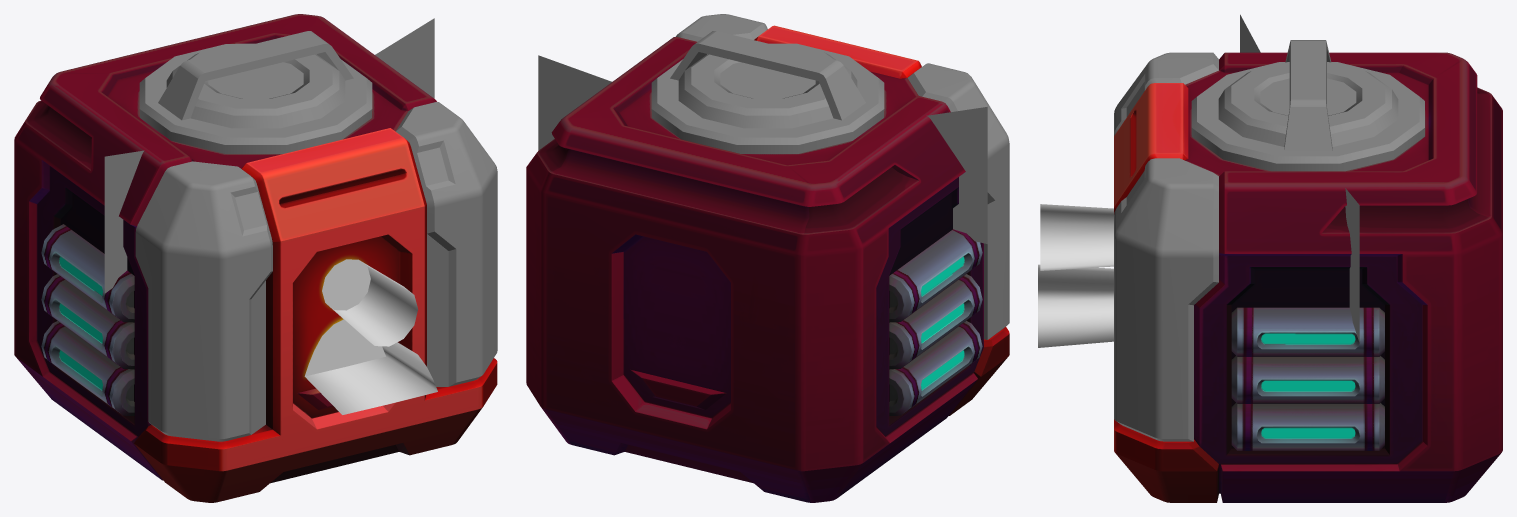
The model's file is HeroBox2.glb.
3 renders of one model, left to right at view 1: azimuth 30°, elevation 25°; view 2: azimuth 150°, elevation 25°; view 3: azimuth 270°, elevation 25°, orthographic.
Visible parts, largest first — view 1: LootBox_Heroes_Case, LootBox_Heroes_Lock_L, LootBox_Heroes_Cap, LootBox_Heroes_Lock_R, HeroVFX, LootBox_Heroes_Glow; view 2: LootBox_Heroes_Case, LootBox_Heroes_Cap, LootBox_Heroes_Glow, LootBox_Heroes_Lock_L, LootBox_Heroes_Lock_R; view 3: LootBox_Heroes_Case, LootBox_Heroes_Lock_R, LootBox_Heroes_Cap, HeroVFX, LootBox_Heroes_Lock_L, LootBox_Heroes_Glow.
Boxes of the visible parts, <box> form: LootBox_Heroes_Case: <box>14,14,497,502</box>; LootBox_Heroes_Lock_L: <box>135,161,272,441</box>; LootBox_Heroes_Cap: <box>139,31,372,153</box>; LootBox_Heroes_Lock_R: <box>395,102,497,386</box>; HeroVFX: <box>304,259,437,414</box>; LootBox_Heroes_Glow: <box>104,18,434,293</box>; LootBox_Heroes_Case: <box>526,25,1009,502</box>; LootBox_Heroes_Cap: <box>651,31,884,153</box>; LootBox_Heroes_Glow: <box>538,55,987,243</box>; LootBox_Heroes_Lock_L: <box>907,63,1009,339</box>; LootBox_Heroes_Lock_R: <box>675,14,767,41</box>; LootBox_Heroes_Case: <box>1114,52,1502,502</box>; LootBox_Heroes_Lock_R: <box>1114,158,1218,441</box>; LootBox_Heroes_Cap: <box>1191,40,1424,171</box>; HeroVFX: <box>1038,204,1113,347</box>; LootBox_Heroes_Lock_L: <box>1114,52,1218,135</box>; LootBox_Heroes_Glow: <box>1240,14,1359,342</box>.
Bounding box in the file's own units: 0.7926 × 0.7077 × 0.8148.
Materials: 3 (1 with a texture image).
